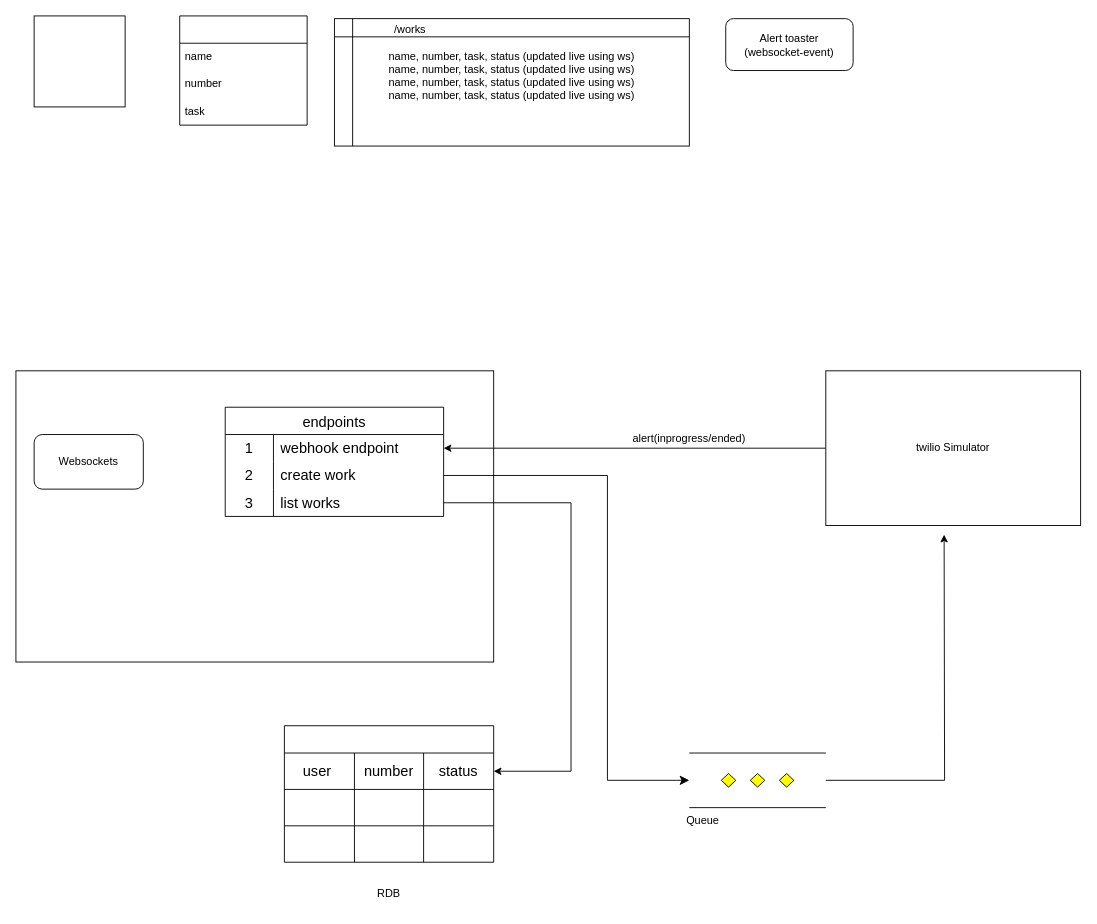
The diagram is 1097 pixels wide and 924 high, and some of its shapes have lost their labels. Here are the shapes that lost their labels. From the top down, the box of each, then its label:
(33, 15, 125, 107): Client
(179, 15, 307, 125): /create-work
(283, 725, 494, 862): work
